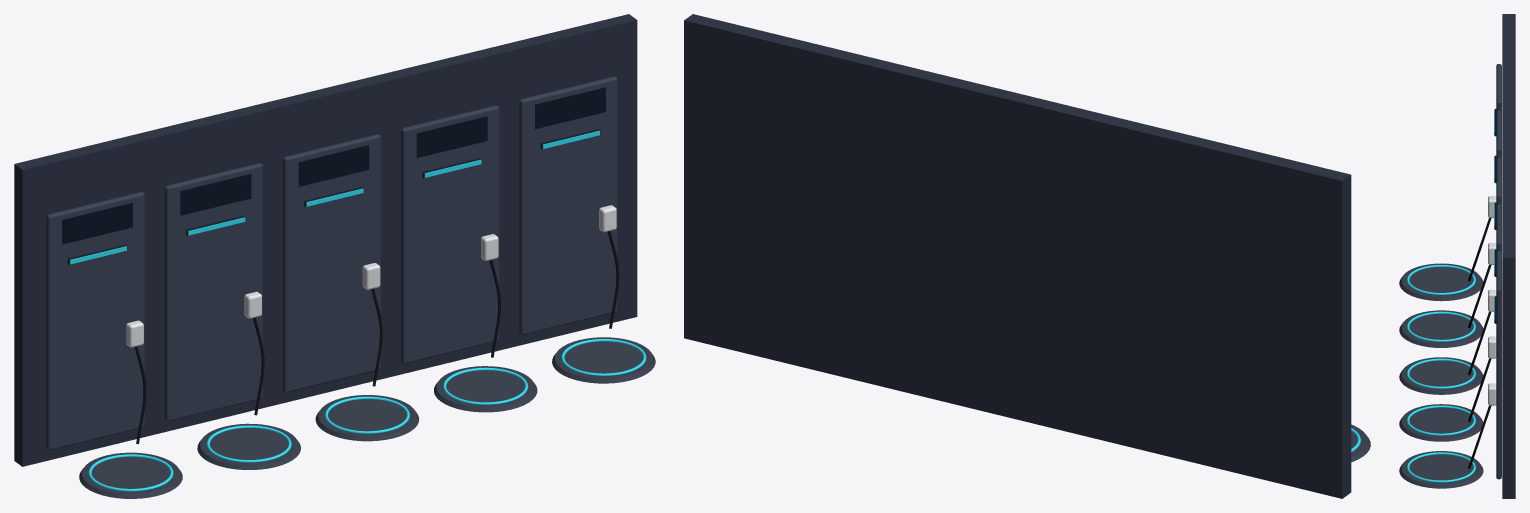
The model's file is chargingWall.glb.
3 views of the same model, side by side, from view 1: azimuth 30°, elevation 25°; view 2: azimuth 150°, elevation 25°; view 3: azimuth 270°, elevation 25° (orthographic). The views are drawn at different scales.
Visible parts, largest first — view 1: wall, back3, back0, back4, back1, back2, pad3, pad4, pad0, pad2, pad1, plate1 (+4 smaller); view 2: wall; view 3: wall, pad4, pad1, pad2, pad3, pad0, back4, ring2, ring4, ring3, ring1, ring0 (+14 smaller).
Part boxes in pixels (<box>): wall: <box>14,14,637,466</box>; back3: <box>401,105,499,363</box>; back0: <box>46,192,144,450</box>; back4: <box>519,76,617,334</box>; back1: <box>164,163,262,421</box>; back2: <box>282,134,380,392</box>; pad3: <box>434,366,537,412</box>; pad4: <box>552,337,655,383</box>; pad0: <box>79,452,182,498</box>; pad2: <box>315,395,419,441</box>; pad1: <box>197,423,300,469</box>; plate1: <box>180,174,251,215</box>; wall: <box>684,14,1351,498</box>; wall: <box>1502,14,1515,498</box>; pad4: <box>1399,451,1483,488</box>; pad1: <box>1399,310,1483,347</box>; pad2: <box>1399,357,1483,394</box>; pad3: <box>1399,404,1483,441</box>; pad0: <box>1399,263,1483,301</box>; back4: <box>1496,251,1501,479</box>; ring2: <box>1407,358,1475,388</box>; ring4: <box>1407,452,1475,482</box>; ring3: <box>1407,405,1475,435</box>; ring1: <box>1407,311,1475,341</box>; ring0: <box>1407,265,1475,294</box>.
Bounding box in the file's own units: 5.2 × 2.4 × 1.05.
